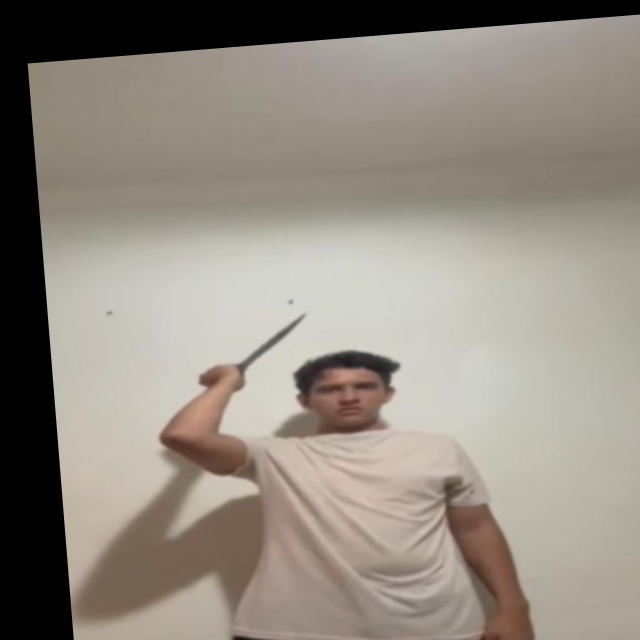Sharp-Object: (239, 312, 314, 364)
